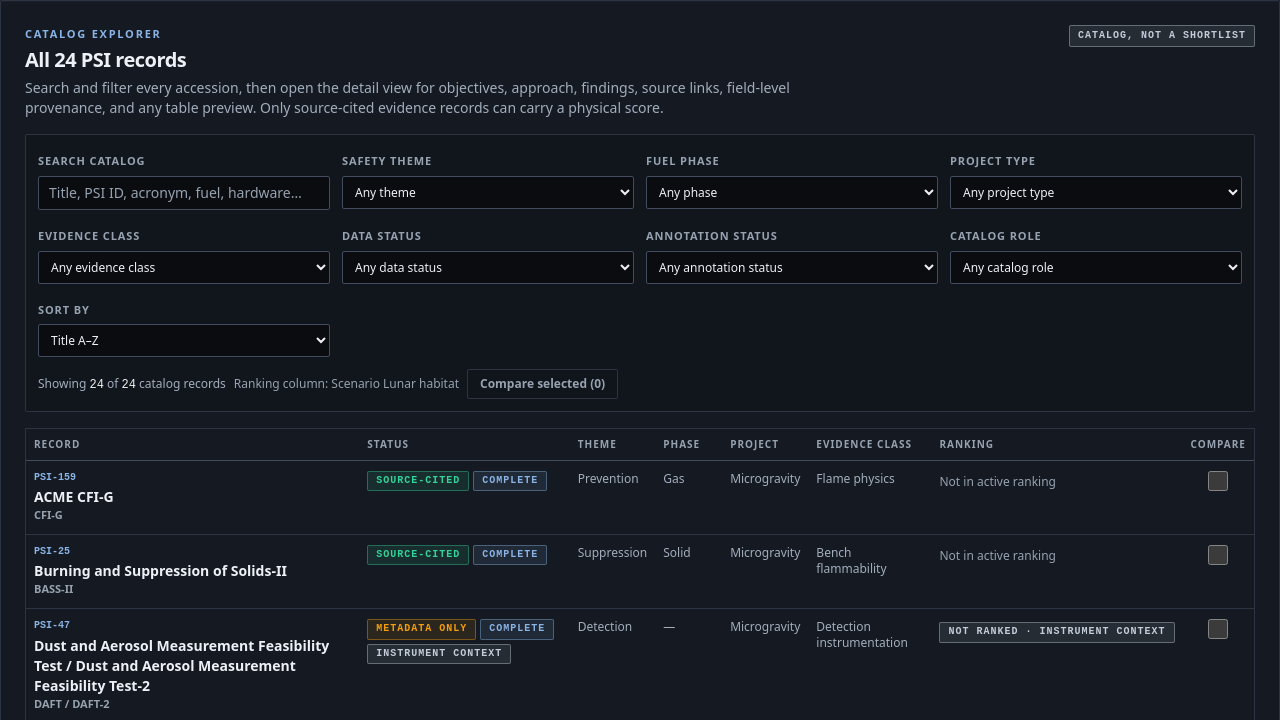
Test case: CatalogExplorer — search › matches objectives text for source-cited records once loaded
Type "characterize the combustion" into the search field labelled "Search catalog".
click(184, 193); type("characterize the combustion")  # box top-left (38, 176), bottom-right (330, 210)
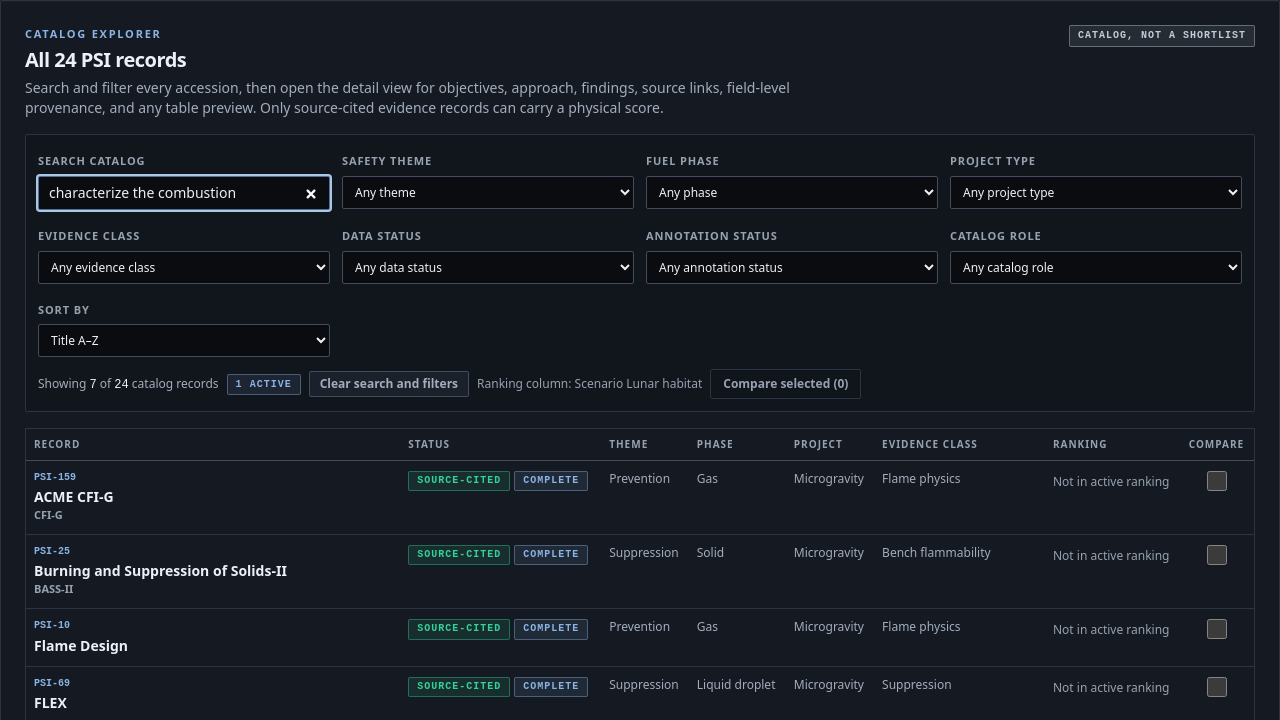
Expected: the text "PSI-25" is shown, top-left (34, 546), bottom-right (70, 557)
Result: the element showing "Showing 7 of 24 catalog records" is shown at top-left (38, 376), bottom-right (219, 393)
